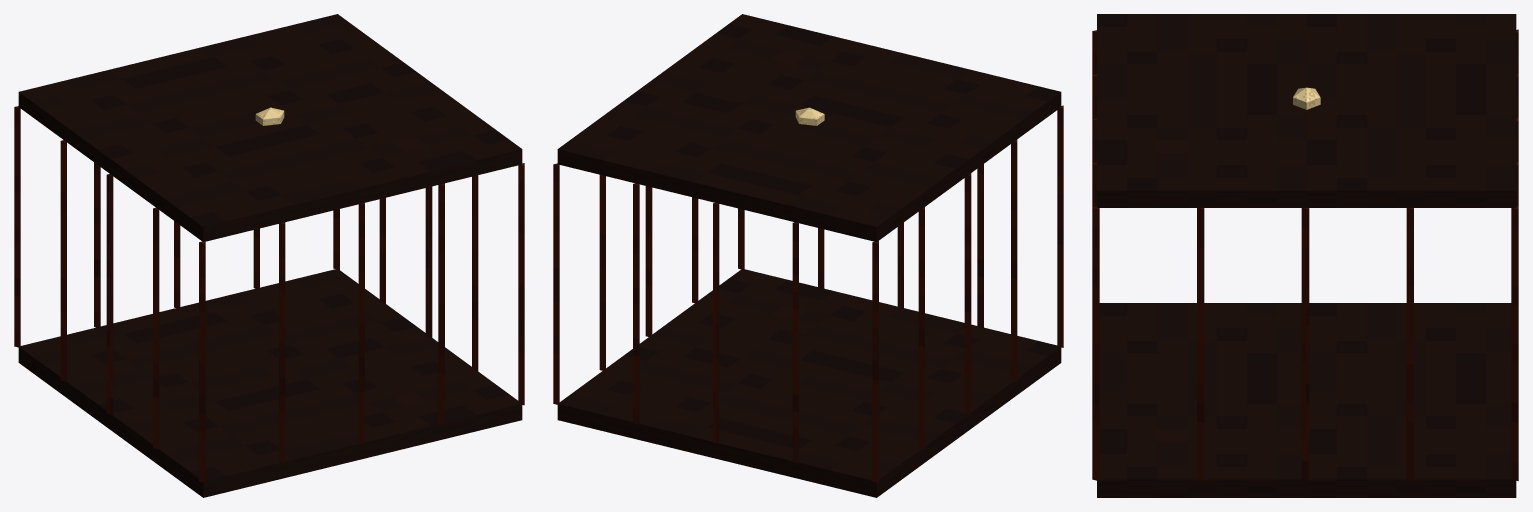
File: jaula_sacrificio.glb
The picture shows the model from 3 angles, left to right: view 1: azimuth 30°, elevation 25°; view 2: azimuth 150°, elevation 25°; view 3: azimuth 270°, elevation 25°; orthographic projection. The views are drawn at different scales.
Parts seen in each view (by area): view 1: techo, base, barrotes; view 2: techo, base, barrotes; view 3: techo, base, barrotes, craneos.
Part boxes in pixels (<box>): techo: <box>18,14,522,241</box>; base: <box>18,269,522,497</box>; barrotes: <box>14,106,524,483</box>; techo: <box>557,14,1061,242</box>; base: <box>557,269,1061,497</box>; barrotes: <box>553,105,1063,483</box>; techo: <box>1097,14,1516,207</box>; base: <box>1097,303,1516,497</box>; barrotes: <box>1092,29,1518,481</box>; craneos: <box>1293,87,1320,109</box>.
Bounding box in the file's own units: 3 × 2.5 × 3.
Materials: 1 (1 with a texture image).
